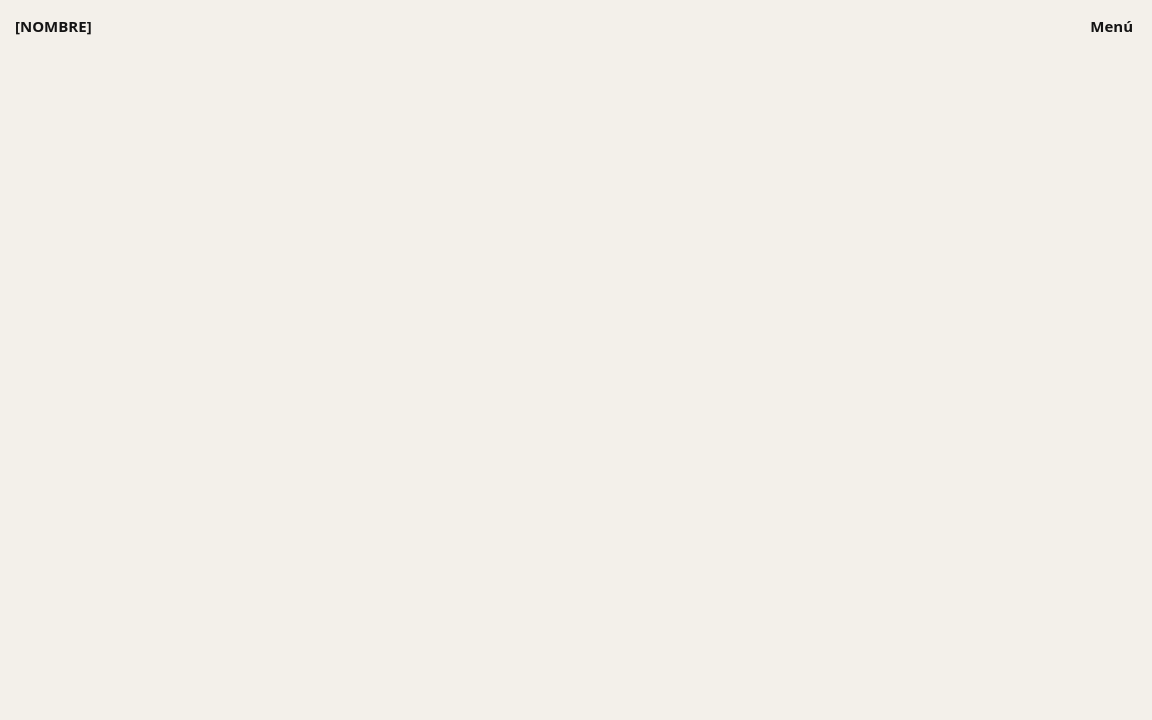
Test: <Header /> › el botón Menú abre el overlay y Cerrar lo cierra devolviendo el foco
Step 1. Click the button "Menú" → (1112, 26), box [1086, 4, 1137, 48]
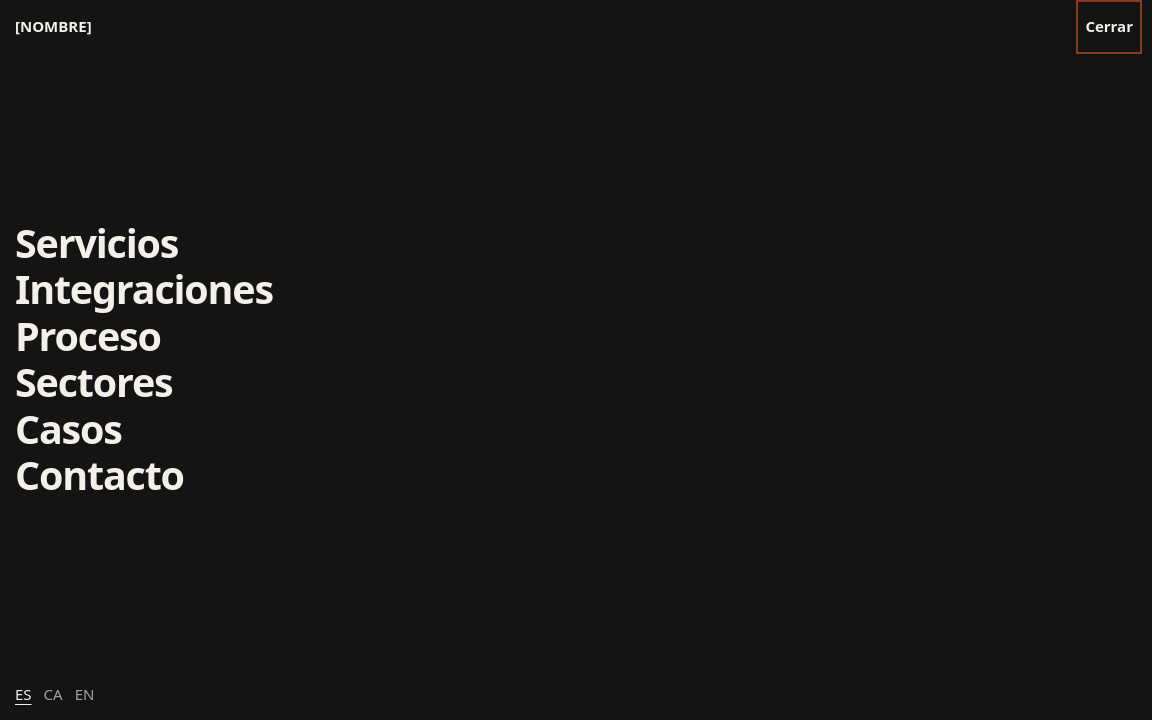
Expected: the button named "Menú" is expanded
Expected: the dialog is shown
Expected: the number of buttons "Cerrar" is 1
Step 2. Click the button "Cerrar" → (1109, 26), box [1081, 4, 1137, 48]
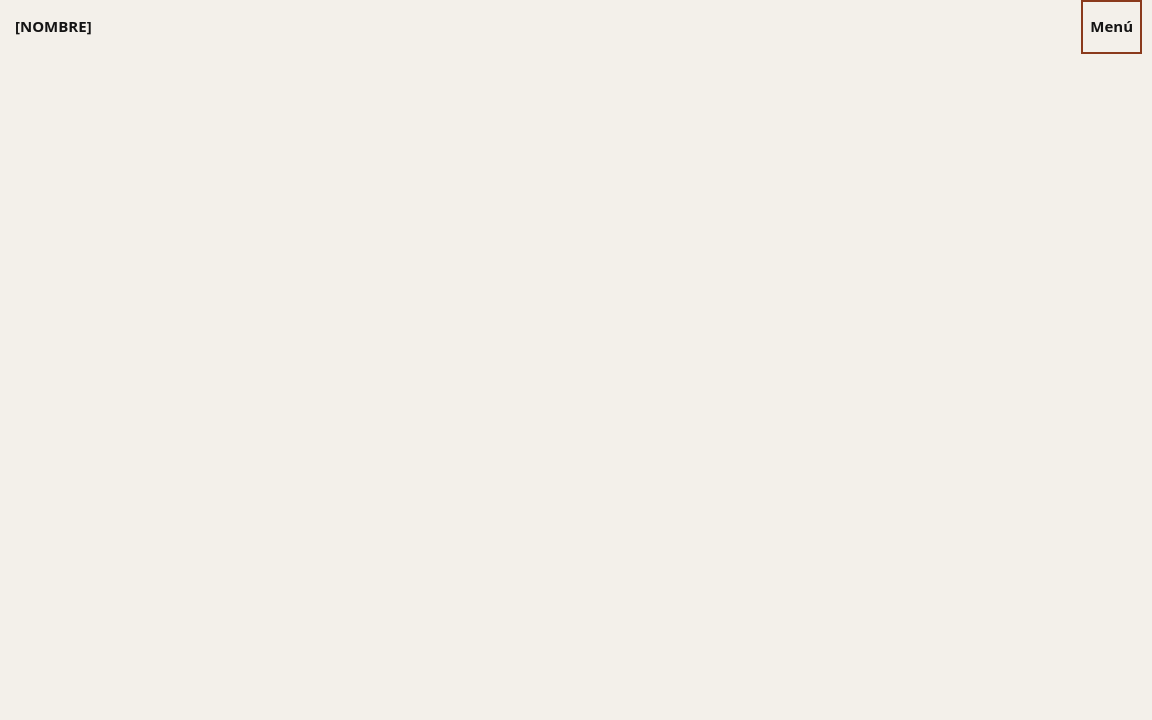
Expected: the dialog is gone
